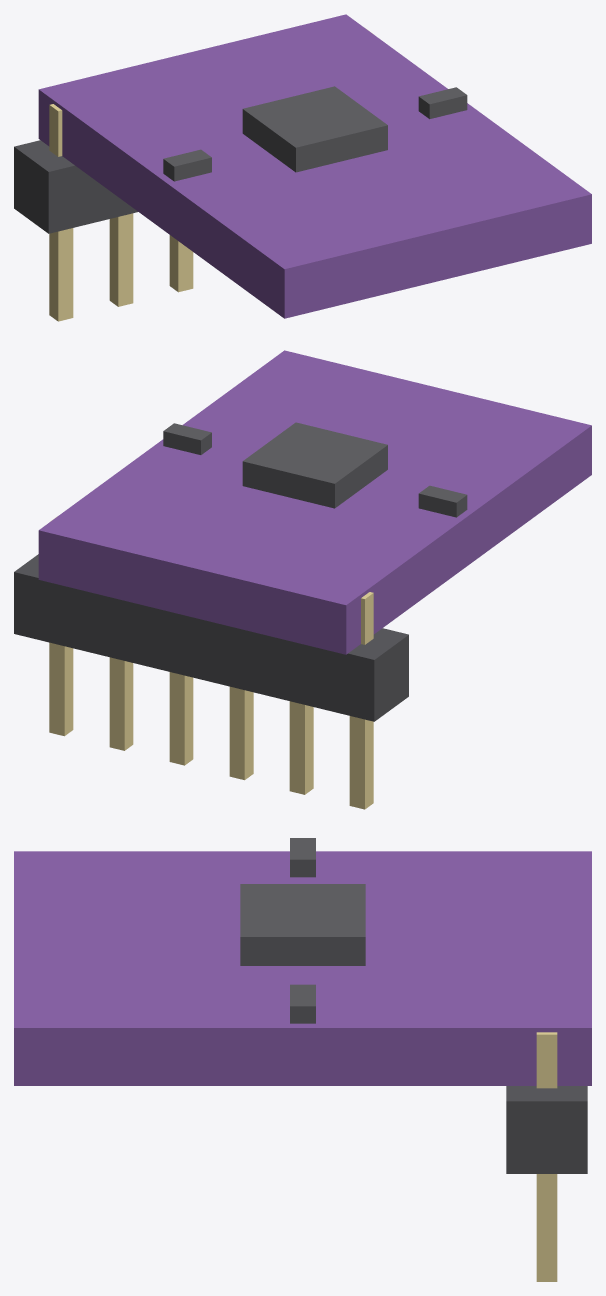
The picture shows the model from 3 angles, top to bottom: view 1: azimuth 30°, elevation 25°; view 2: azimuth 150°, elevation 25°; view 3: azimuth 270°, elevation 25°; orthographic projection. The views are drawn at different scales.
Parts seen in each view (by area): view 1: vl53l0x-pcb, vl53l0x-ic, vl53l0x-plastic, vl53l0x-pins; view 2: vl53l0x-pcb, vl53l0x-plastic, vl53l0x-pins, vl53l0x-ic; view 3: vl53l0x-pcb, vl53l0x-ic, vl53l0x-plastic, vl53l0x-pins.
Part boxes in pixels (x1,y1,x2,y2): vl53l0x-pcb: (38,14,591,318); vl53l0x-ic: (163,86,467,181); vl53l0x-plastic: (14,140,137,233); vl53l0x-pins: (49,29,372,321); vl53l0x-pcb: (38,350,591,654); vl53l0x-plastic: (14,554,408,721); vl53l0x-pins: (49,516,373,809); vl53l0x-ic: (163,422,467,517); vl53l0x-pcb: (14,851,591,1085); vl53l0x-ic: (240,838,365,1023); vl53l0x-plastic: (506,1086,587,1173); vl53l0x-pins: (536,1032,557,1281).
Bounding box in the file's own units: 0.0152 × 0.00965 × 0.018.
